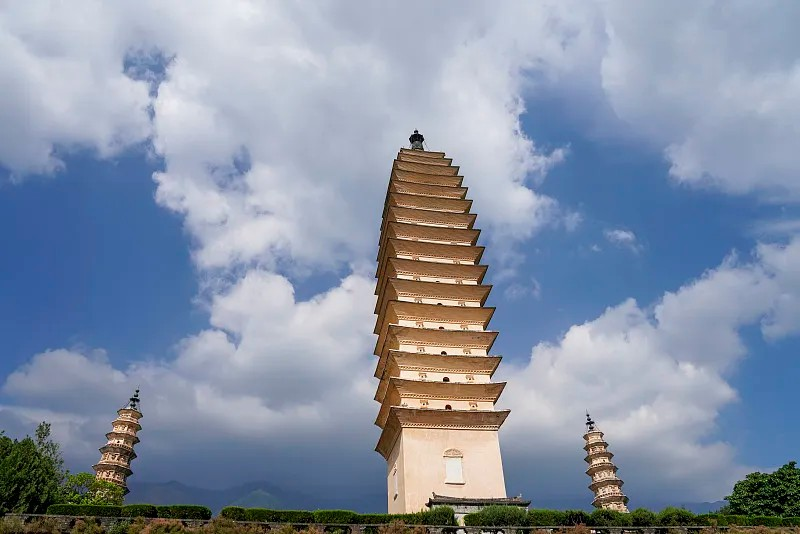ThreePagoda: (374, 130, 512, 514)
